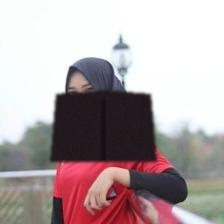Cadar_Niqab: (49, 55, 156, 161)
